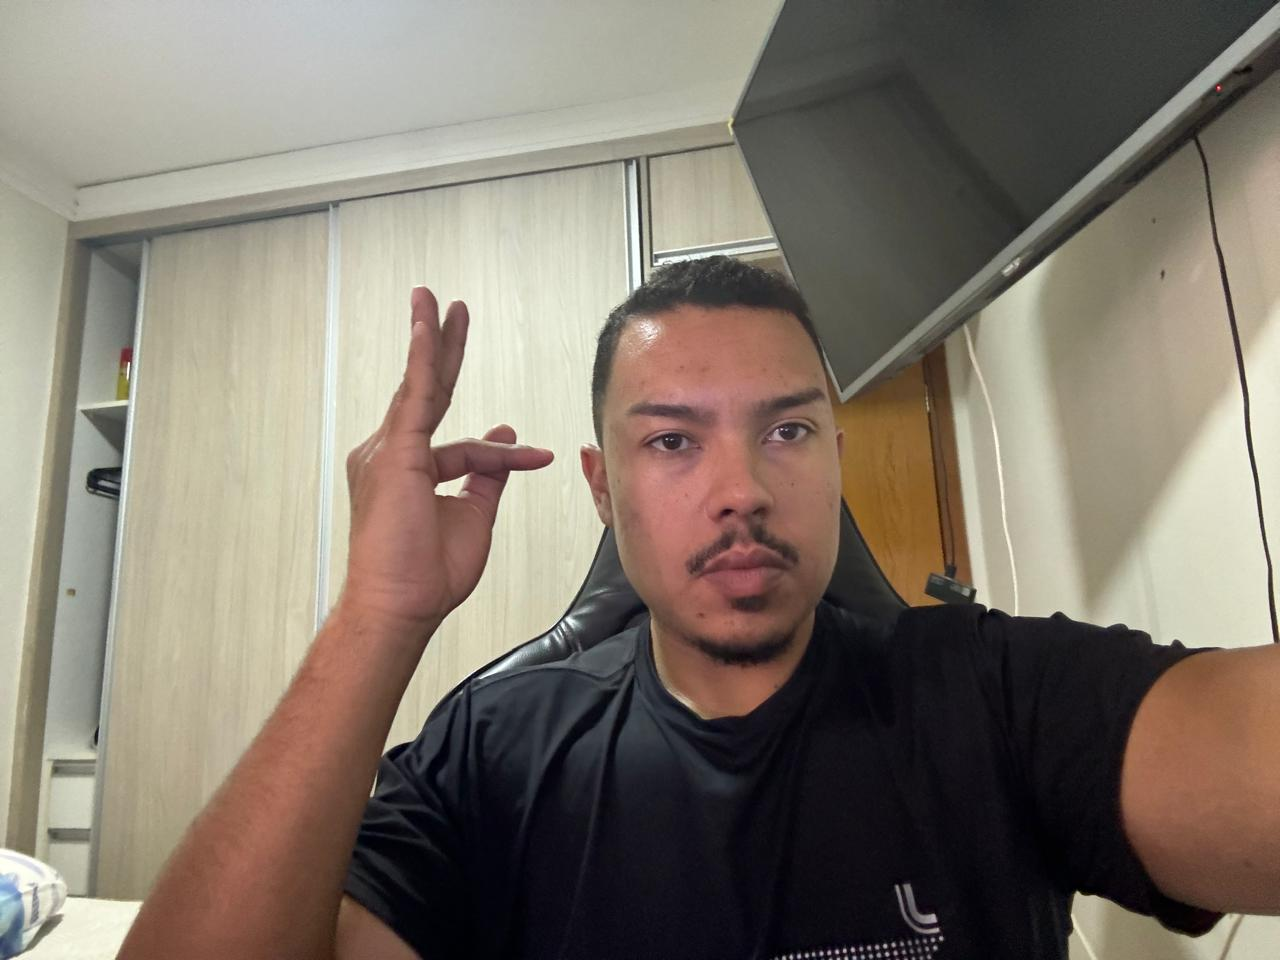f: (326, 273, 562, 635)
